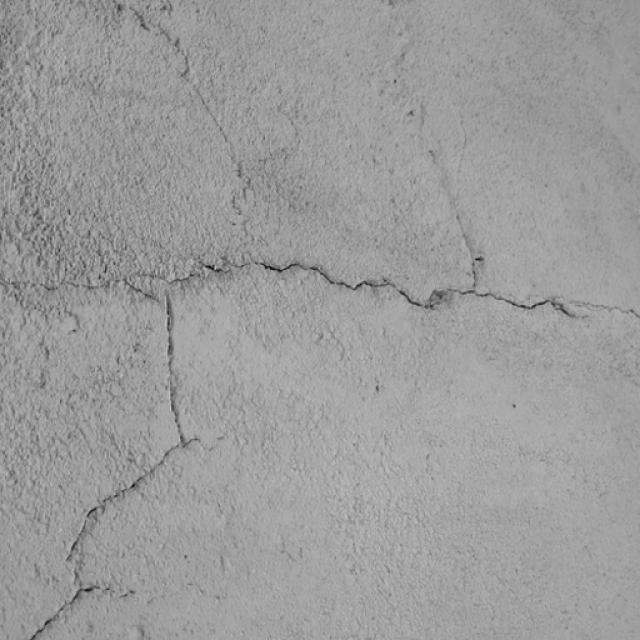SurfaceCrack: (0, 228, 639, 384), (2, 284, 209, 639)
